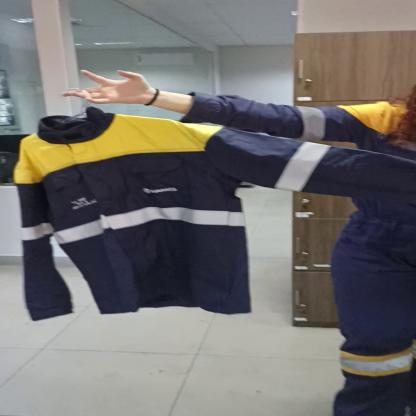C_eletrica: (10, 114, 413, 319)
